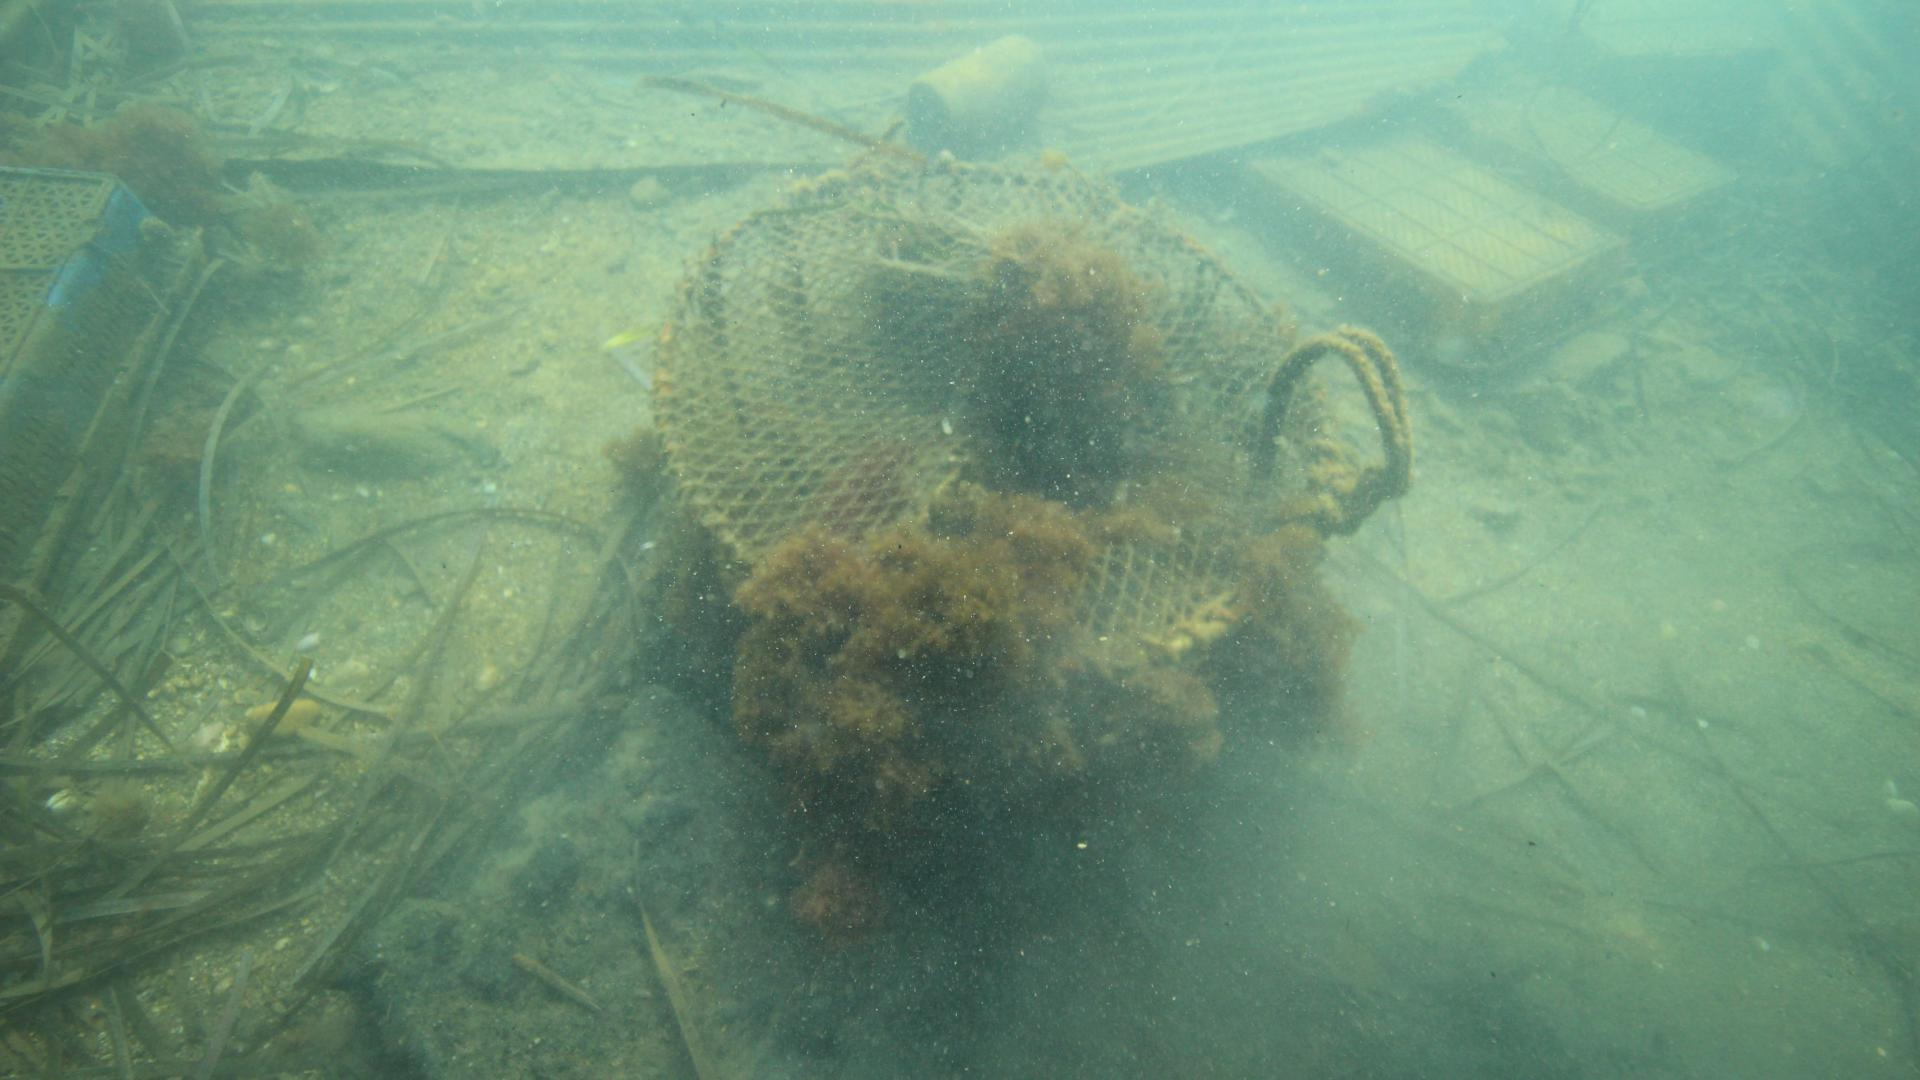bundle of ropes: (1265, 322, 1412, 534)
circular fish trap: (647, 157, 1338, 753)
